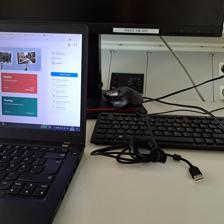mouse: (102, 85, 144, 111)
